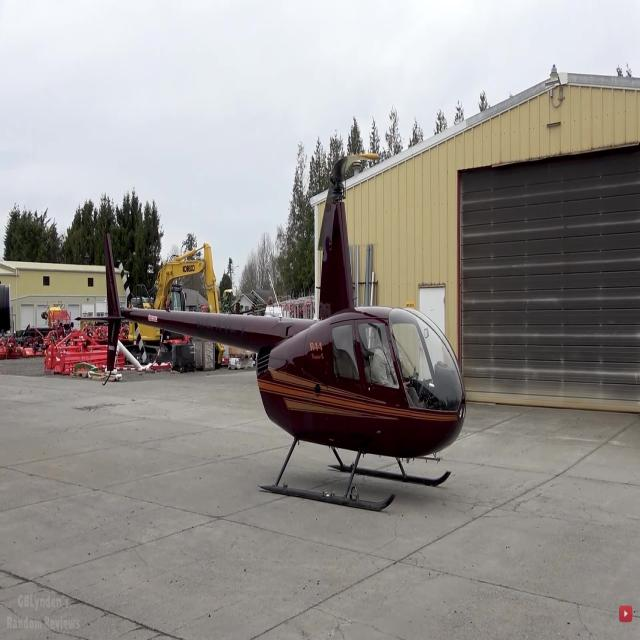CIV_HELO: (71, 171, 467, 517)
